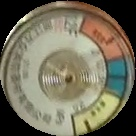green: (103, 58, 127, 100)
red: (82, 12, 125, 61)
yellow: (73, 92, 123, 136)
